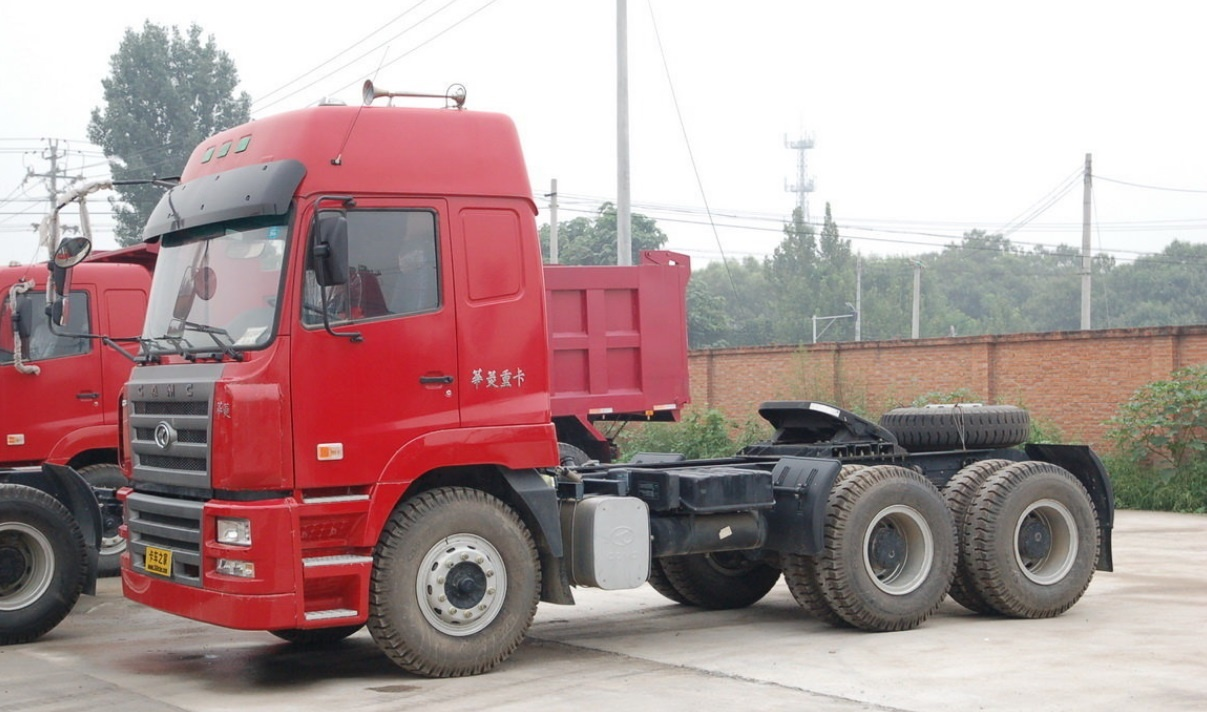heavy truck: (59, 91, 1103, 668)
